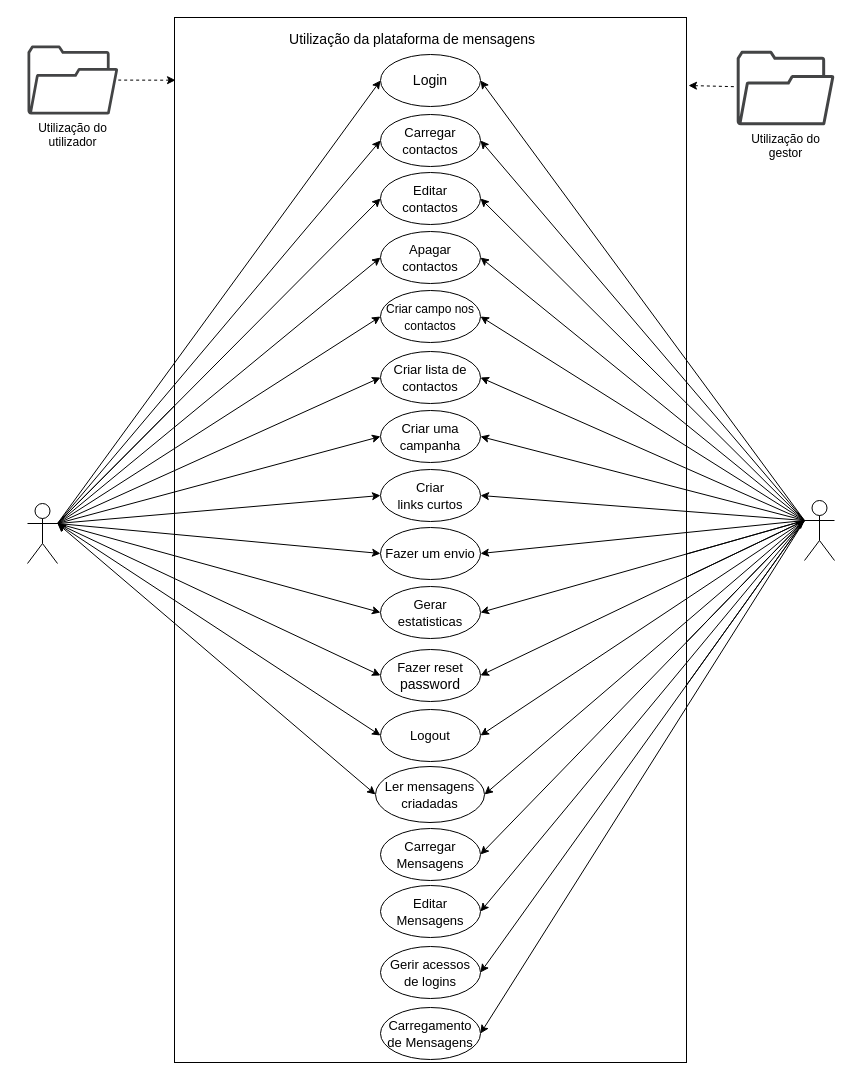
This 854x1080 diagram has some shape labels left out. The shapes that lost their labels are listed below. From the top down, each one's centre as x and y in pixels, then its label:
At (x=42, y=533): "Utilizador".
At (x=819, y=530): "Gestor".
